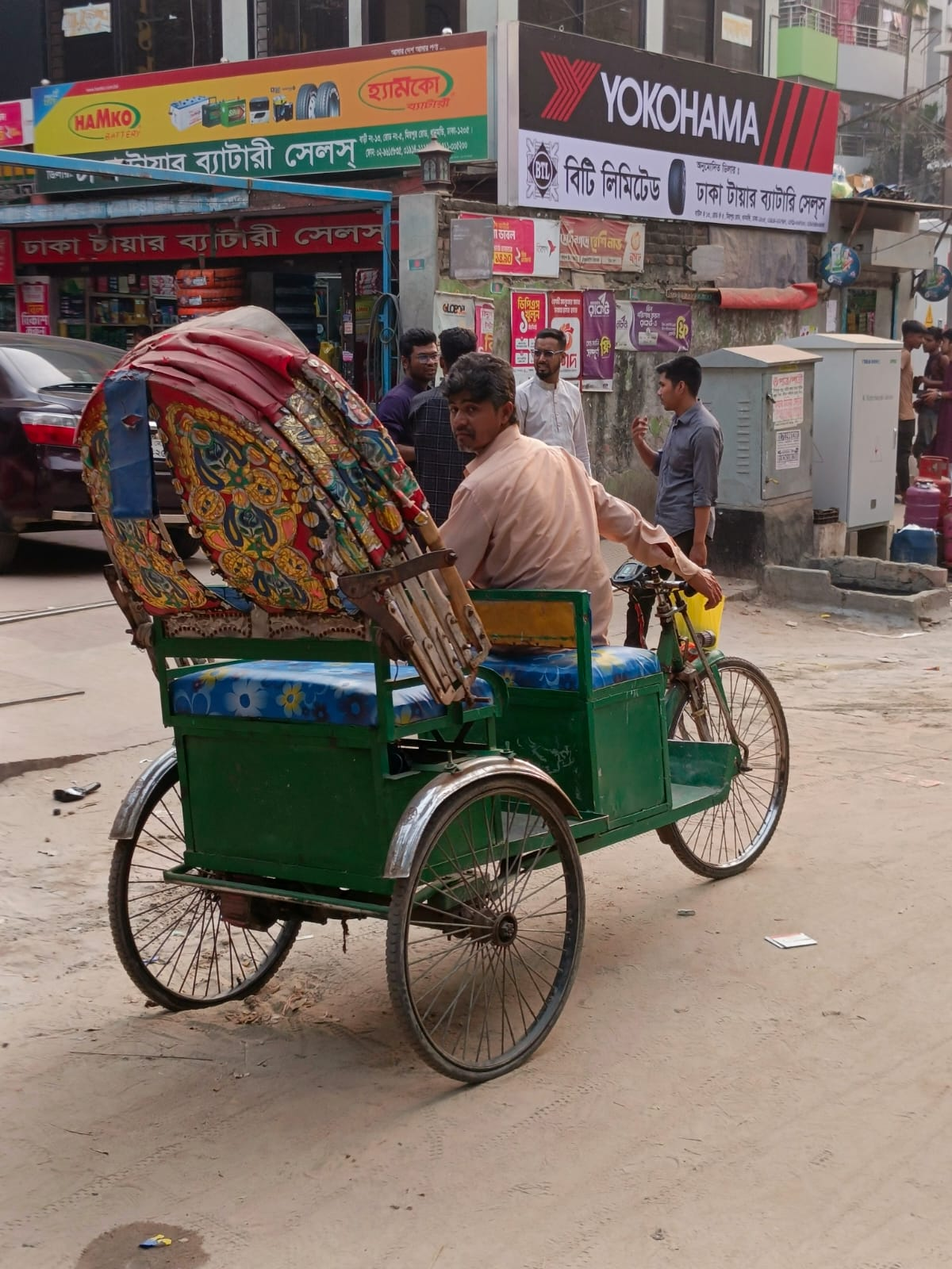auto-ricksaw: (50, 212, 863, 1079)
private car: (13, 265, 184, 562)
